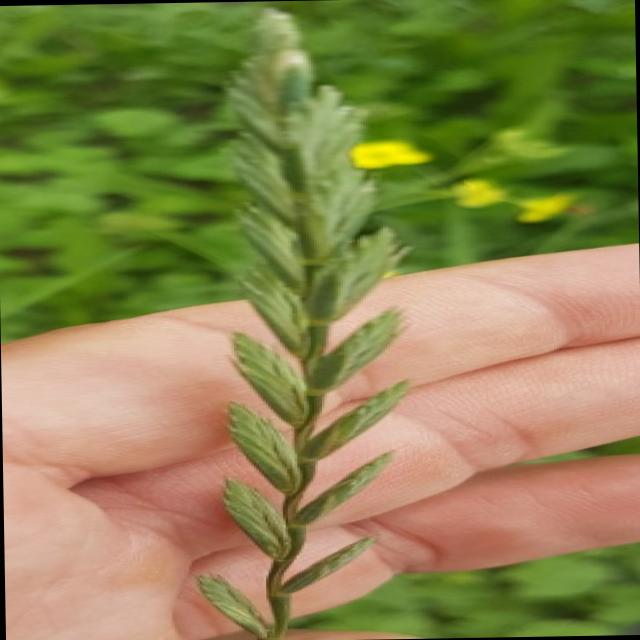Lolium: (183, 3, 425, 640)
